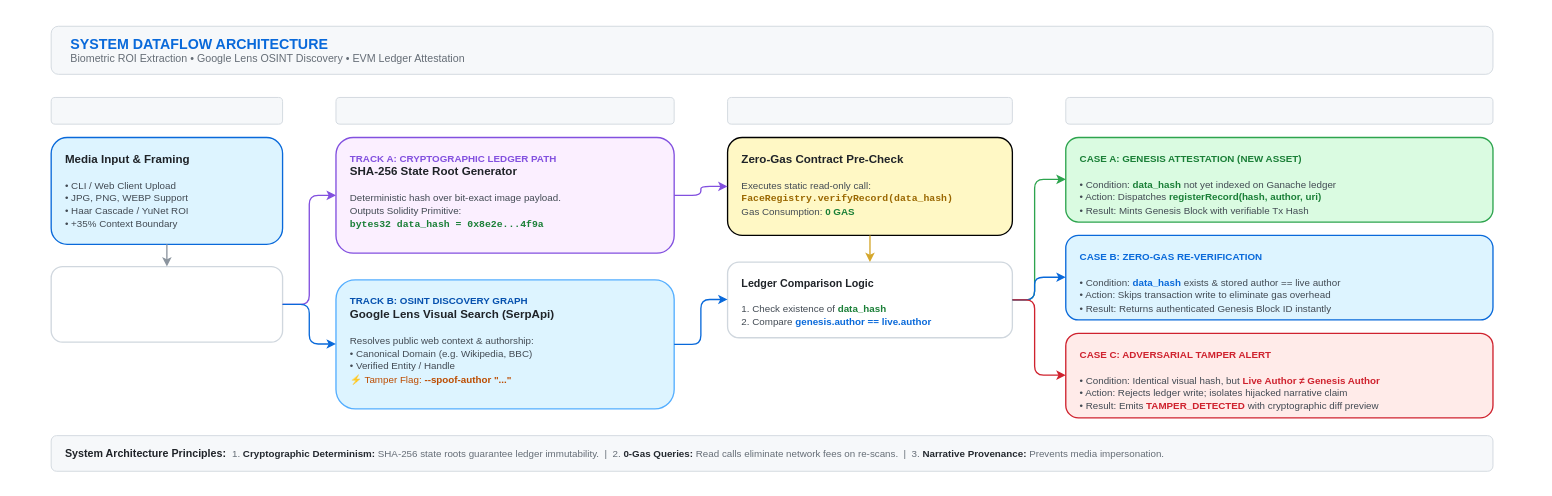
The diagram is 1552 pixels wide and 496 high, and some of its shapes have lost their labels. The shapes that lost their labels are listed below. From the top down, each one's centre as x and y in pixels, then its label:
point (166, 110): 01 // INGESTION
point (504, 110): 02 // DUAL-TRACK ANALYSIS
point (869, 110): 03 // EVM SMART CONTRACT EVALUATION
point (1279, 110): 04 // ATTESTATION OUTCOMES
point (166, 303): FastAPI Gateway • Endpoint: /api/verify • Dispatches parallel tracks
